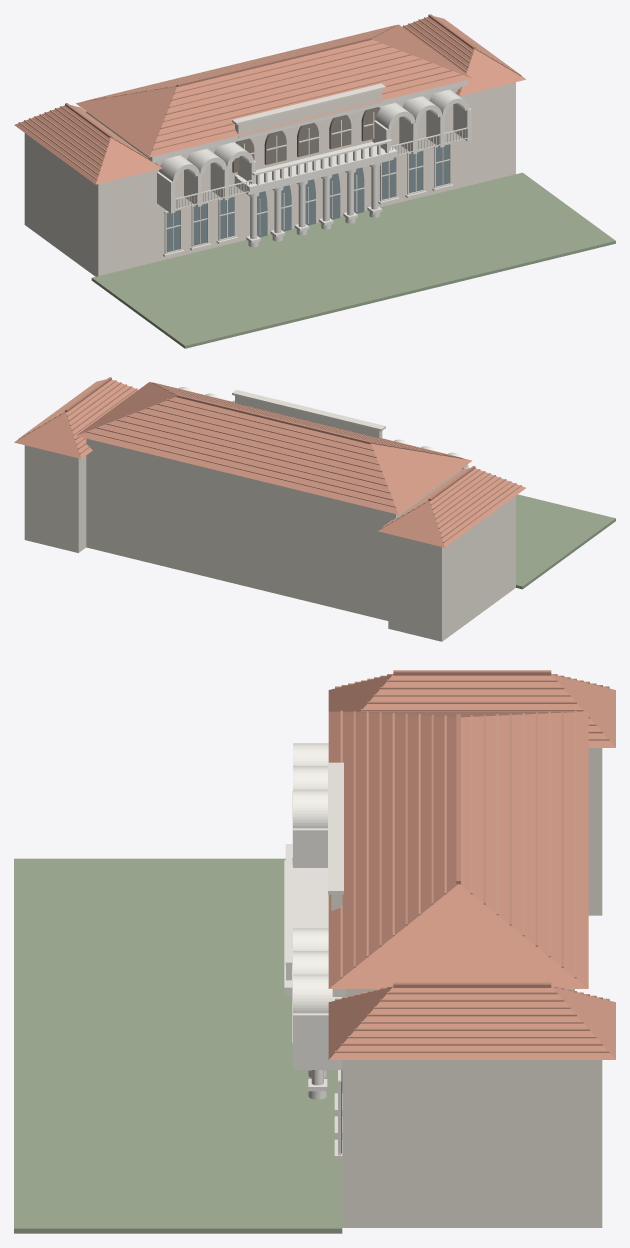
File: bellas-artes.glb
The picture shows the model from 3 angles, top to bottom: view 1: azimuth 30°, elevation 25°; view 2: azimuth 150°, elevation 25°; view 3: azimuth 270°, elevation 25°; orthographic projection. The views are drawn at different scales.
Visible parts, largest first — view 1: contexto · mat-5f7350, edificio · mat-eadfca, edificio · mat-a6533d, edificio · mat-f5efe1, edificio · mat-b66449, edificio · mat-eee7d6, edificio · mat-42565b, edificio · mat-a25640, edificio · mat-4e453b, edificio · mat-984d3a; view 2: edificio · mat-eadfca, edificio · mat-a6533d, edificio · mat-b66449, contexto · mat-5f7350, edificio · mat-a25640, edificio · mat-984d3a, edificio · mat-eee7d6; view 3: contexto · mat-5f7350, edificio · mat-a6533d, edificio · mat-eadfca, edificio · mat-f5efe1, edificio · mat-b66449, edificio · mat-a25640, edificio · mat-eee7d6, edificio · mat-984d3a.
Part boxes in pixels (bbox=[...]): contexto · mat-5f7350: bbox=[91, 172, 615, 348]; edificio · mat-eadfca: bbox=[24, 82, 515, 276]; edificio · mat-a6533d: bbox=[14, 16, 525, 184]; edificio · mat-f5efe1: bbox=[148, 80, 471, 247]; edificio · mat-b66449: bbox=[18, 16, 521, 179]; edificio · mat-eee7d6: bbox=[163, 83, 468, 256]; edificio · mat-42565b: bbox=[166, 144, 449, 252]; edificio · mat-a25640: bbox=[24, 16, 516, 175]; edificio · mat-4e453b: bbox=[232, 107, 380, 172]; edificio · mat-984d3a: bbox=[65, 14, 475, 137]; edificio · mat-eadfca: bbox=[24, 395, 515, 641]; edificio · mat-a6533d: bbox=[14, 379, 525, 547]; edificio · mat-b66449: bbox=[18, 379, 521, 542]; contexto · mat-5f7350: bbox=[516, 494, 615, 589]; edificio · mat-a25640: bbox=[24, 379, 516, 538]; edificio · mat-984d3a: bbox=[65, 377, 475, 500]; edificio · mat-eee7d6: bbox=[232, 389, 385, 431]; contexto · mat-5f7350: bbox=[14, 858, 342, 1233]; edificio · mat-a6533d: bbox=[328, 674, 615, 1059]; edificio · mat-eadfca: bbox=[331, 748, 602, 1227]; edificio · mat-f5efe1: bbox=[284, 743, 346, 1099]; edificio · mat-b66449: bbox=[335, 674, 609, 1052]; edificio · mat-a25640: bbox=[341, 675, 602, 1045]; edificio · mat-eee7d6: bbox=[292, 762, 343, 1159]; edificio · mat-984d3a: bbox=[393, 670, 551, 987].
Bounding box in the file's own units: 32 × 10.12 × 22.
